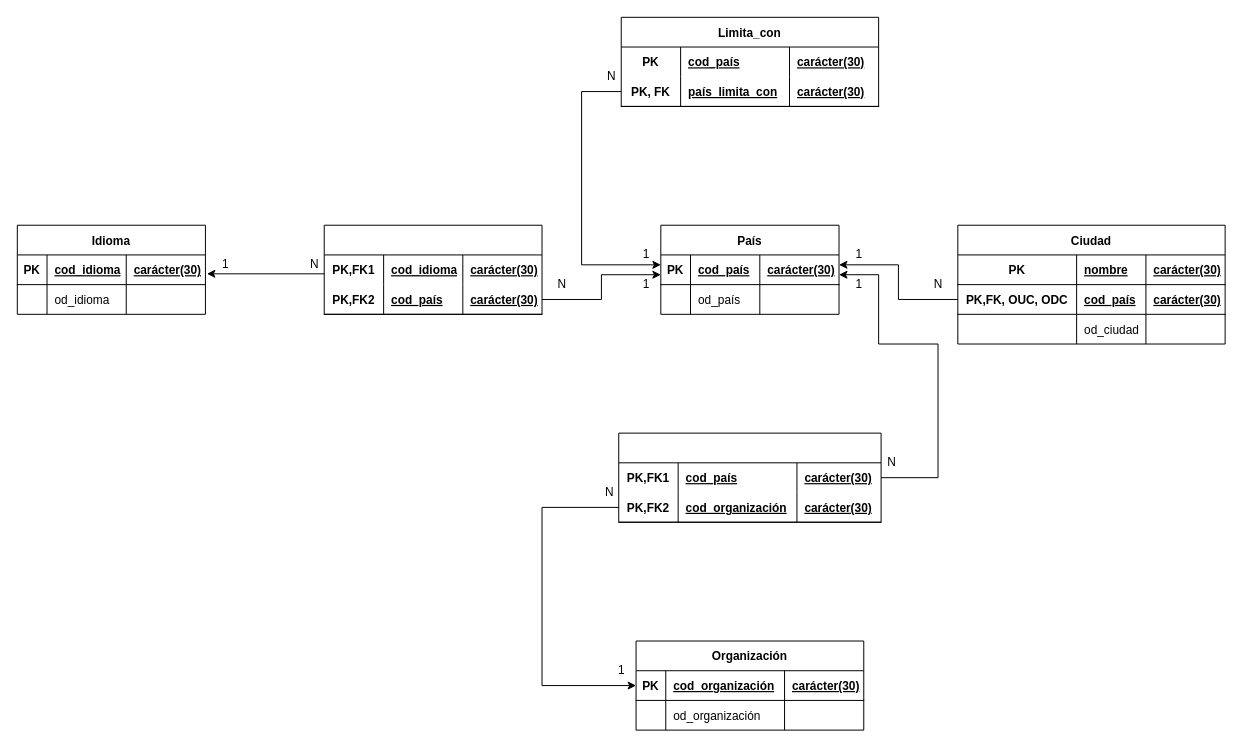
Some shapes in this 1242 by 747 pixel diagram are drawn without their labels. The shapes that lost their labels are listed below. From the top down, each one's box as (x1, y1, x2, y2) in pixels, then its label:
(323, 224, 542, 314): Se_habla
(618, 432, 881, 522): Pertenece
